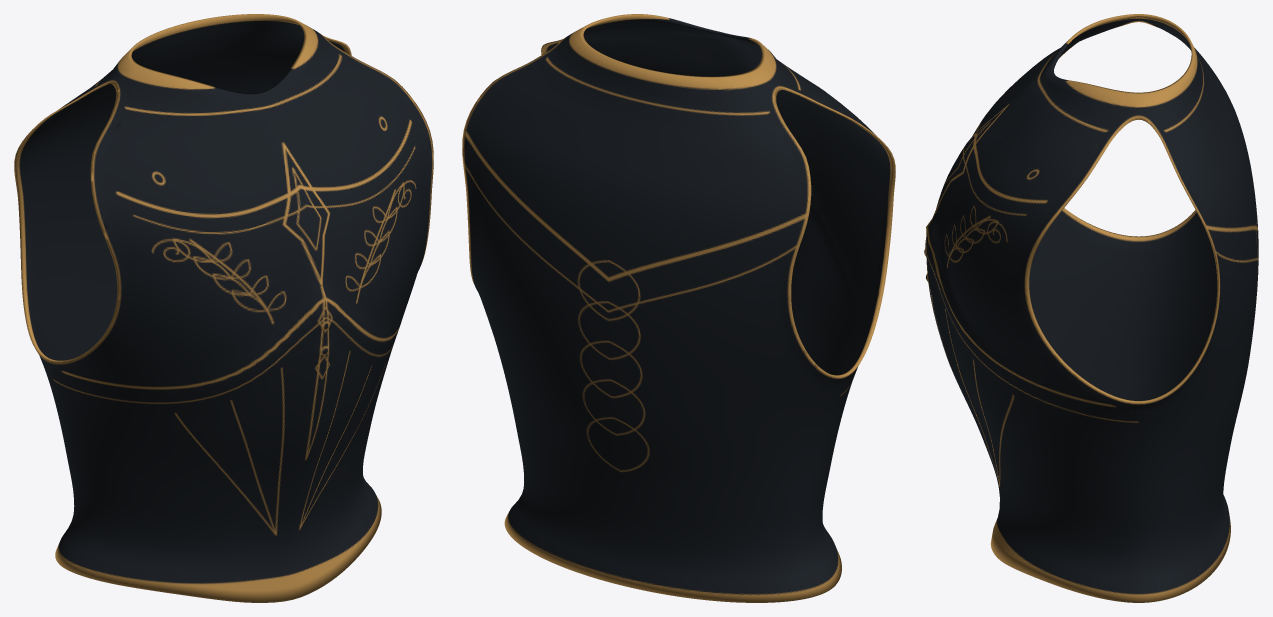
Rendered from SM_ObsidianSovereign_Chest_preview_2K.glb.
3 renders of one model, left to right at view 1: azimuth 30°, elevation 25°; view 2: azimuth 150°, elevation 25°; view 3: azimuth 270°, elevation 25°, orthographic. The views are drawn at different scales.
Parts seen in each view (by area): view 1: SM_ObsidianSovereign_Chest_LOD0; view 2: SM_ObsidianSovereign_Chest_LOD0; view 3: SM_ObsidianSovereign_Chest_LOD0.
Boxes of the visible parts, box(x1,y1,x2,y2) form: SM_ObsidianSovereign_Chest_LOD0: box(14, 14, 433, 602); SM_ObsidianSovereign_Chest_LOD0: box(462, 14, 895, 602); SM_ObsidianSovereign_Chest_LOD0: box(924, 14, 1258, 602).
Size of the model in its own units: 0.3571 by 0.491 by 0.3038.
1 material, 1 textured.
